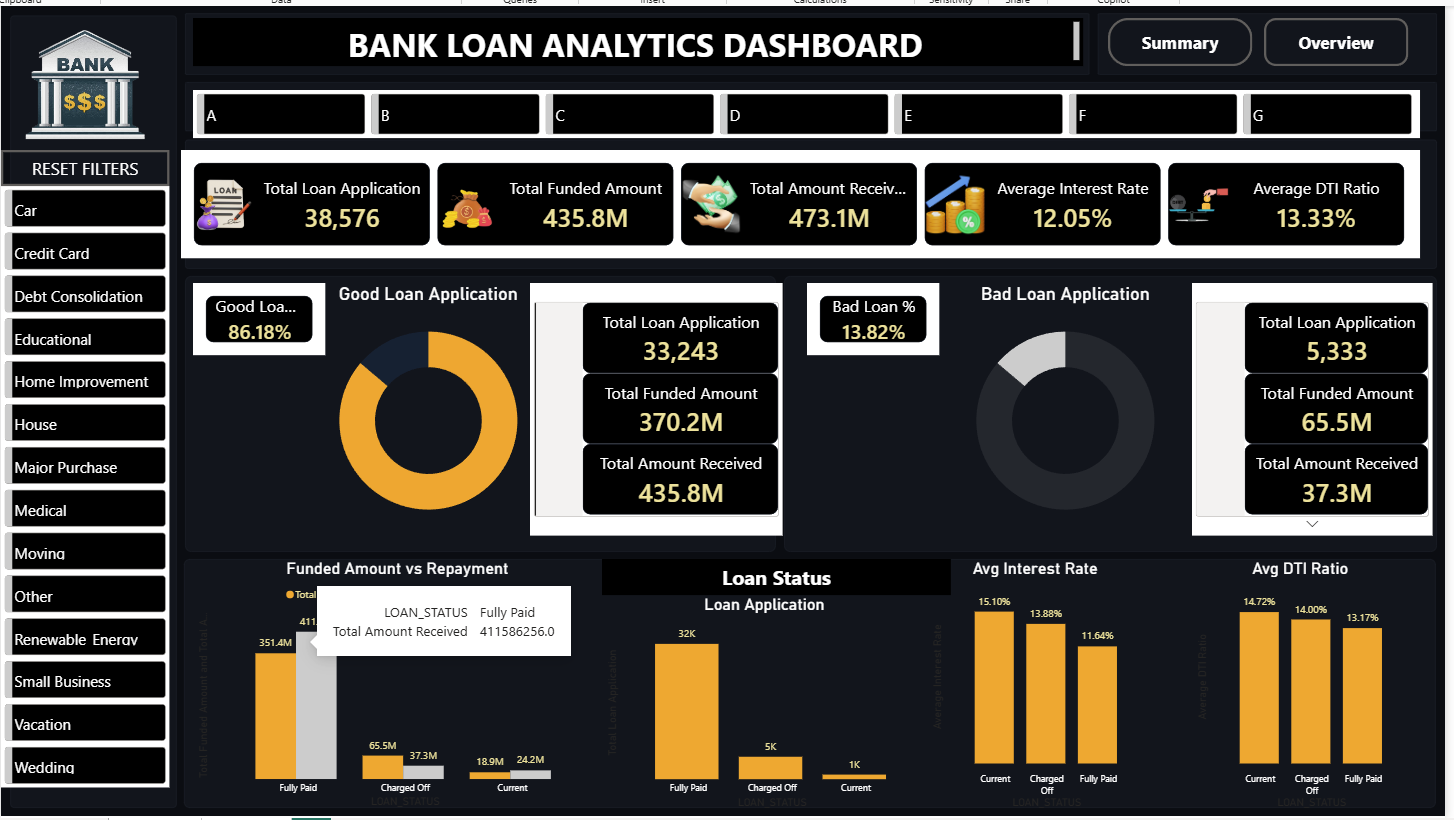

This screenshot's page, from the dashboard's own definition file:
{"tool":"powerbi","page":{"name":"Summary","canvas":[1920,1080],"ordinal":0},"visuals":[{"type":"cardVisual","fields":{"Data":["financial_loan.Total Loan Application","financial_loan.Total Funded Amount","financial_loan.Total Amount Received","financial_loan.Average Interest Rate","financial_loan.Average DTI Rate"]},"box":[240,192,1648,144],"z":0},{"type":"donutChart","title":"Good Loan Application","fields":{"Category":["financial_loan.Good_vs_Bad_Loan"],"Y":["financial_loan.Total Loan Application"]},"box":[368,368,400,336],"z":1000},{"type":"donutChart","title":"Bad Loan Application","fields":{"Category":["financial_loan.Good_vs_Bad_Loan"],"Y":["financial_loan.Total Loan Application"]},"box":[1216,368,400,336],"z":2000},{"type":"cardVisual","fields":{"Data":["financial_loan.Good Loan %"]},"box":[256,368,176,96],"z":3000},{"type":"cardVisual","fields":{"Data":["financial_loan.Bad Loan %"]},"box":[1072,368,176,96],"z":4000},{"type":"cardVisual","fields":{"Data":["financial_loan.Total Loan Application","financial_loan.Total Funded Amount","financial_loan.Total Amount Received"],"Rows":["financial_loan.Good_vs_Bad_Loan"]},"box":[704,368,336,336],"z":5000},{"type":"cardVisual","fields":{"Data":["financial_loan.Total Loan Application","financial_loan.Total Funded Amount","financial_loan.Total Amount Received"],"Rows":["financial_loan.Good_vs_Bad_Loan"]},"box":[1584,368,320,336],"z":6000},{"type":"clusteredColumnChart","title":"Funded Amount vs Repayment","fields":{"Category":["financial_loan.LOAN_STATUS"],"Y":["financial_loan.Total Funded Amount","financial_loan.Total Amount Received"]},"box":[256,736,544,336],"z":7000},{"type":"clusteredColumnChart","title":"Loan Application","fields":{"Category":["financial_loan.LOAN_STATUS"],"Y":["financial_loan.Total Loan Application"]},"box":[800,784,432,288],"z":8000},{"type":"textbox","box":[800,736,464,48],"z":9000},{"type":"clusteredColumnChart","title":"Avg Interest Rate","fields":{"Category":["financial_loan.LOAN_STATUS"],"Y":["financial_loan.Average Interest Rate"]},"box":[1232,736,288,336],"z":10000},{"type":"clusteredColumnChart","title":"Avg DTI Ratio","fields":{"Category":["financial_loan.LOAN_STATUS"],"Y":["financial_loan.Average DTI Ratio"]},"box":[1584,736,288,336],"z":11000},{"type":"image","box":[0,0,224,208],"z":12000},{"type":"advancedSlicerVisual","fields":{"Values":["financial_loan.PURPOSE"]},"box":[0,240,224,800],"z":13000},{"type":"advancedSlicerVisual","fields":{"Values":["financial_loan.GRADE"]},"box":[256,112,1632,64],"z":14000},{"type":"actionButton","box":[0,192,224,48],"z":15000},{"type":"textbox","box":[256,16,1184,64],"z":16000},{"type":"pageNavigator","box":[0,0,400,50],"z":17000},{"type":"actionButton","box":[1472,16,192,64],"z":18000},{"type":"actionButton","box":[1680,16,192,64],"z":19000}]}

Visuals, with their boxes on the page's 1920x1080 design canvas (x1, y1, x2, y2). These are canvas units, not pixel positions in the 1454x820 screenshot, which may show the page scaled, cropped or inside an application window:
cardVisual - financial_loan.Total Loan Application x financial_loan.Total Funded Amount: (left=240, top=192, right=1888, bottom=336)
"Good Loan Application" donutChart: (left=368, top=368, right=768, bottom=704)
"Bad Loan Application" donutChart: (left=1216, top=368, right=1616, bottom=704)
cardVisual - financial_loan.Good Loan %: (left=256, top=368, right=432, bottom=464)
cardVisual - financial_loan.Bad Loan %: (left=1072, top=368, right=1248, bottom=464)
cardVisual - financial_loan.Total Loan Application x financial_loan.Total Funded Amount: (left=704, top=368, right=1040, bottom=704)
cardVisual - financial_loan.Total Loan Application x financial_loan.Total Funded Amount: (left=1584, top=368, right=1904, bottom=704)
"Funded Amount vs Repayment" clusteredColumnChart: (left=256, top=736, right=800, bottom=1072)
"Loan Application" clusteredColumnChart: (left=800, top=784, right=1232, bottom=1072)
textbox: (left=800, top=736, right=1264, bottom=784)
"Avg Interest Rate" clusteredColumnChart: (left=1232, top=736, right=1520, bottom=1072)
"Avg DTI Ratio" clusteredColumnChart: (left=1584, top=736, right=1872, bottom=1072)
image: (left=0, top=0, right=224, bottom=208)
advancedSlicerVisual - financial_loan.PURPOSE: (left=0, top=240, right=224, bottom=1040)
advancedSlicerVisual - financial_loan.GRADE: (left=256, top=112, right=1888, bottom=176)
actionButton: (left=0, top=192, right=224, bottom=240)
textbox: (left=256, top=16, right=1440, bottom=80)
pageNavigator: (left=0, top=0, right=400, bottom=50)
actionButton: (left=1472, top=16, right=1664, bottom=80)
actionButton: (left=1680, top=16, right=1872, bottom=80)
